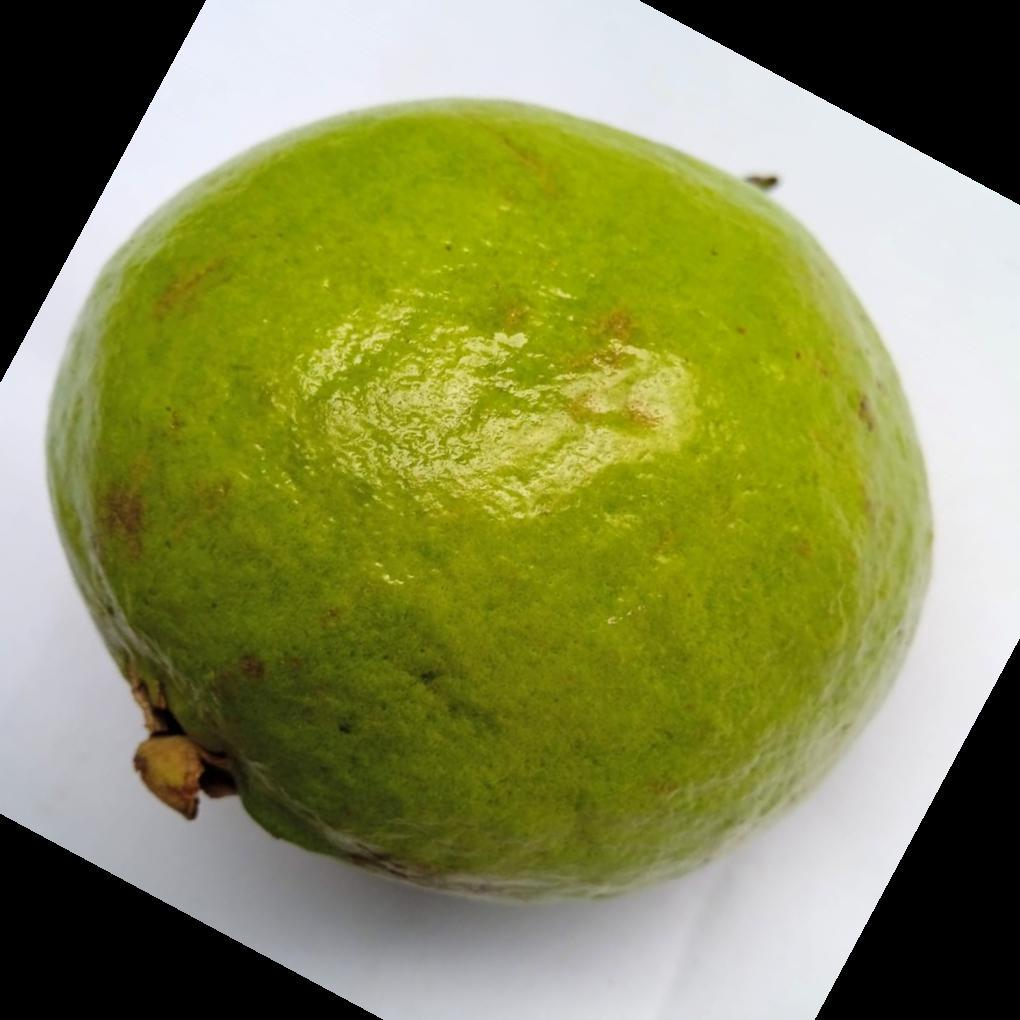FreshGuava: (40, 96, 938, 909)
